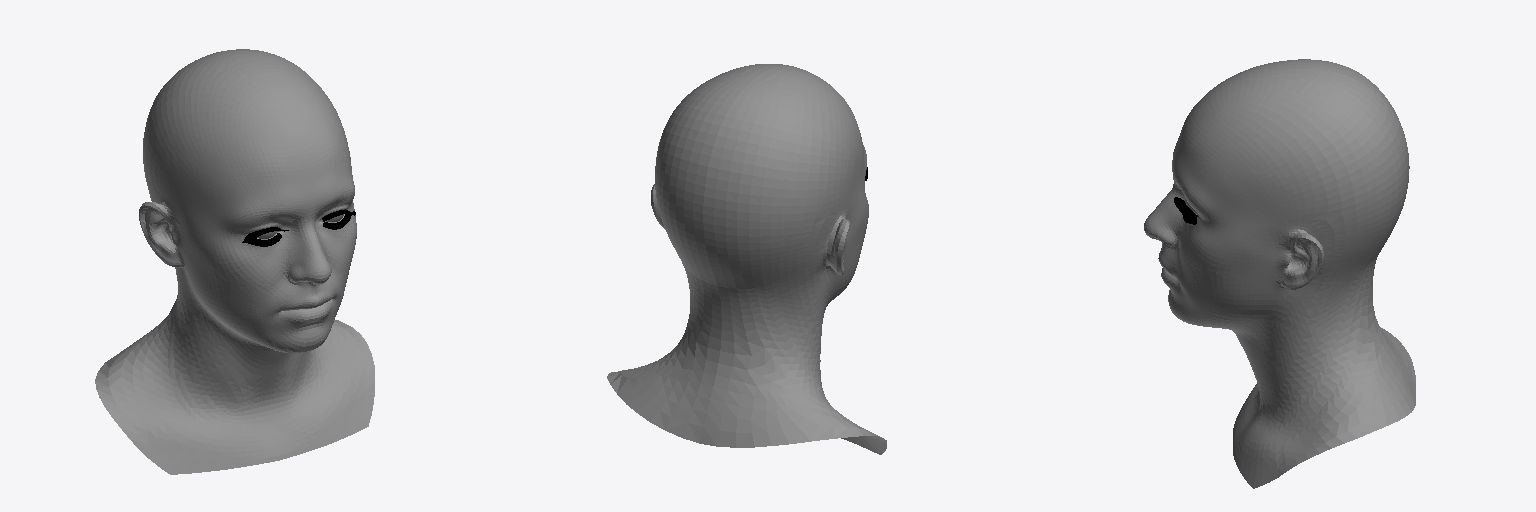
Rendered from identity082.obj.
The picture shows the model from 3 angles: view 1: azimuth 30°, elevation 25°; view 2: azimuth 150°, elevation 25°; view 3: azimuth 270°, elevation 25°; orthographic projection.
Size of the model in its own units: 24.81 by 33.83 by 22.33.